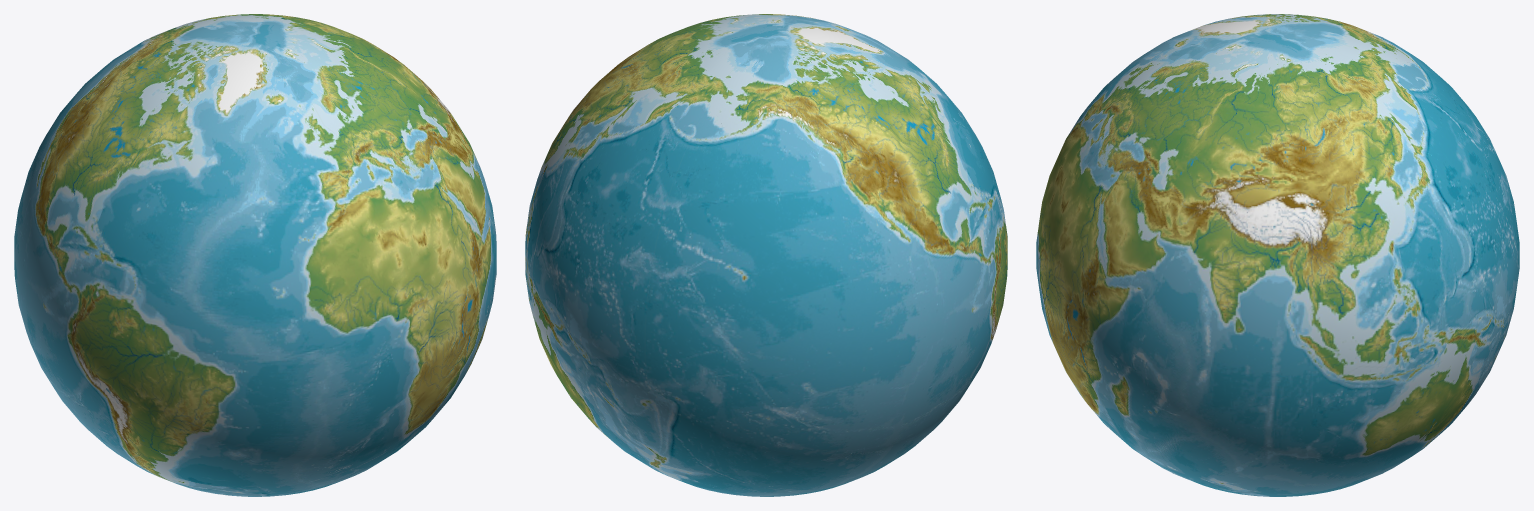
The model's file is Globo-Terraqueo-Mapa-Fisico.fbx.
3 views of the same model, side by side, from view 1: azimuth 30°, elevation 25°; view 2: azimuth 150°, elevation 25°; view 3: azimuth 270°, elevation 25° (orthographic).
Visible parts, largest first — view 1: Sphere001; view 2: Sphere001; view 3: Sphere001.
Boxes of the visible parts, x1,y1,x2,y2 form: Sphere001: [14, 14, 496, 496]; Sphere001: [525, 14, 1007, 496]; Sphere001: [1036, 14, 1519, 496].
Size of the model in its own units: 1.99 by 2 by 2.
Materials: 1 (1 with a texture image).
